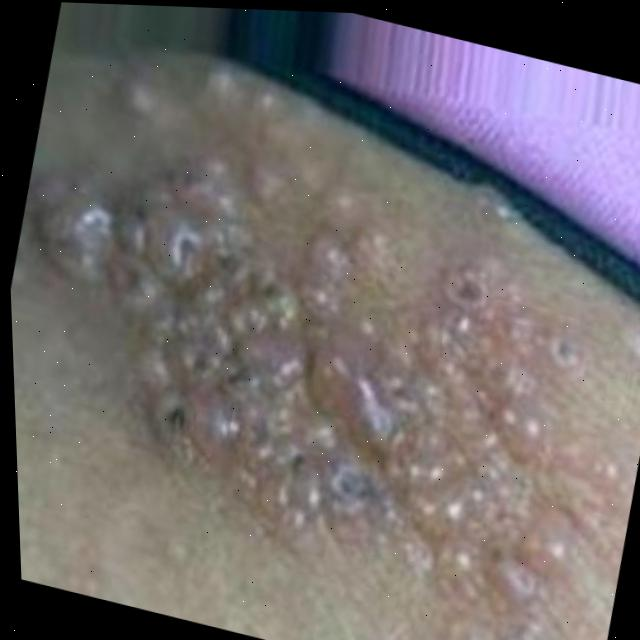Shingles: (4, 103, 640, 640)
